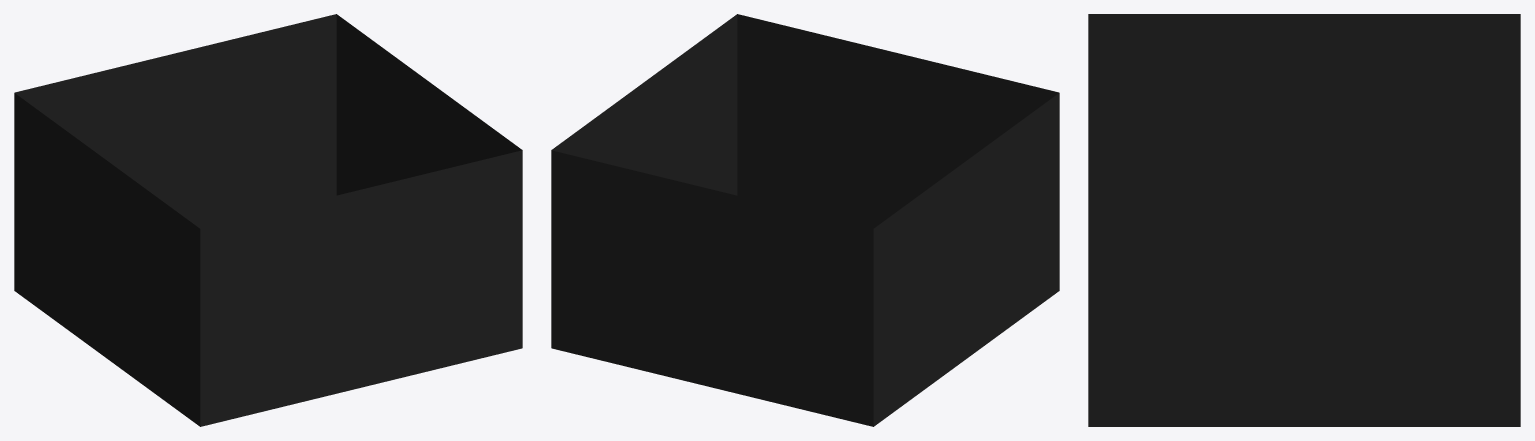
File: Itr_Sofa_Support_Small_01.FBX
The picture shows the model from 3 angles, left to right: view 1: azimuth 30°, elevation 25°; view 2: azimuth 150°, elevation 25°; view 3: azimuth 270°, elevation 25°; orthographic projection. The views are drawn at different scales.
Parts seen in each view (by area): view 1: Itr_Sofa_Support_Small_01; view 2: Itr_Sofa_Support_Small_01; view 3: Itr_Sofa_Support_Small_01.
Boxes of the visible parts, left/top/right/bottom form: Itr_Sofa_Support_Small_01: left=14, top=14, right=522, bottom=426; Itr_Sofa_Support_Small_01: left=551, top=14, right=1059, bottom=426; Itr_Sofa_Support_Small_01: left=1088, top=14, right=1520, bottom=426.
Size of the model in its own units: 3.94 by 2.31 by 3.94.
